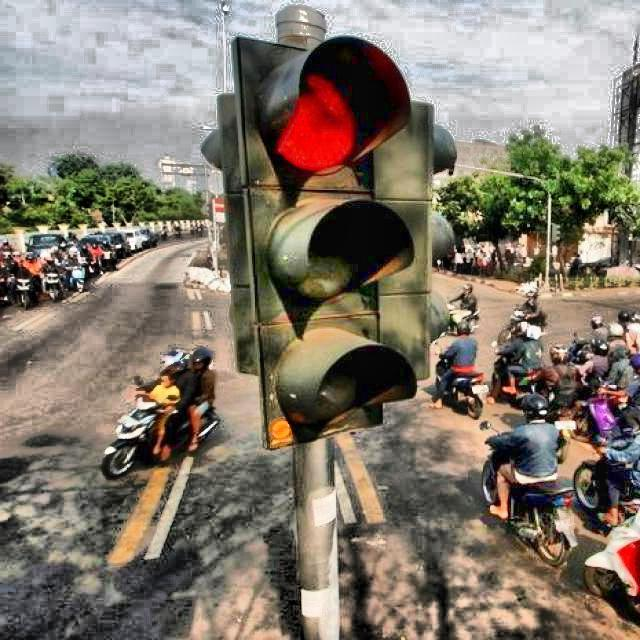red: (234, 34, 421, 446)
